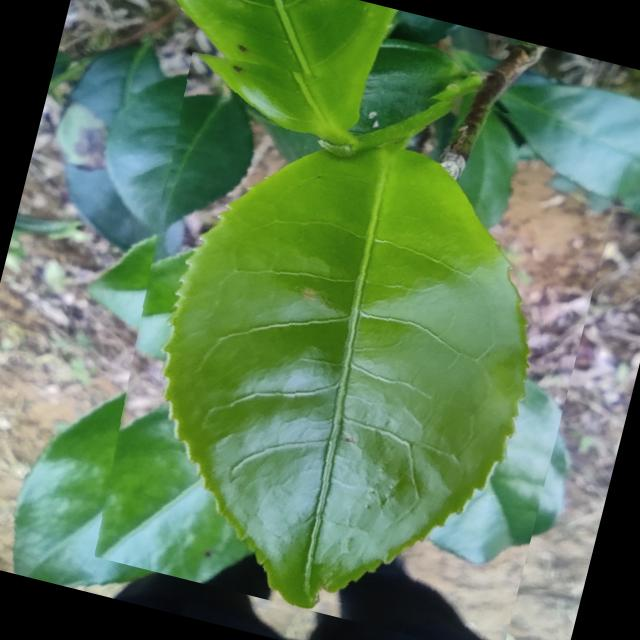Category C(4-7 days): (67, 29, 630, 640)
